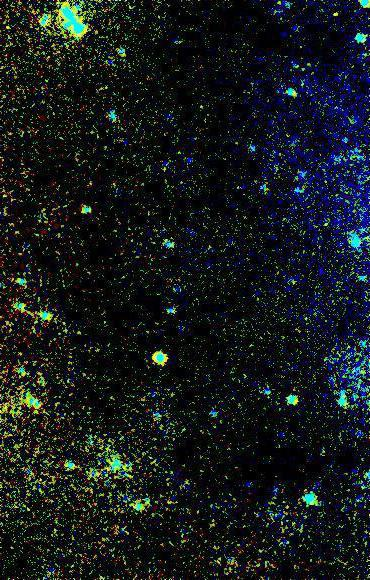star: (320, 0, 350, 29)
